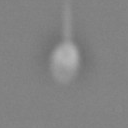normal: (51, 1, 81, 42)
